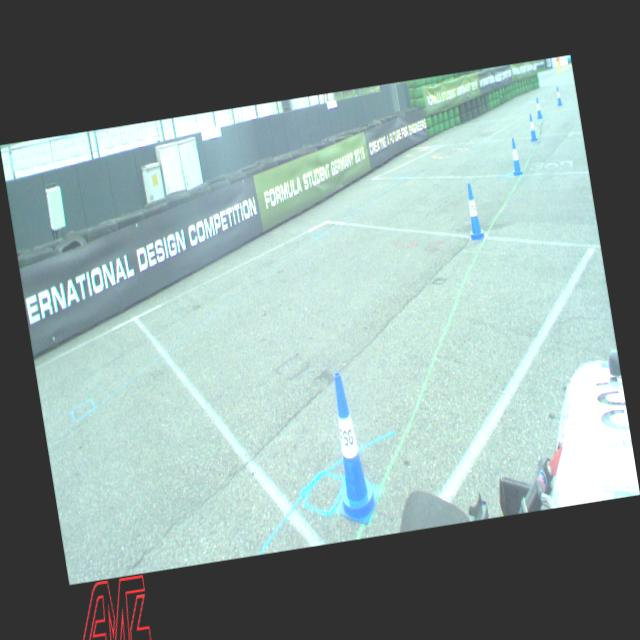blue_cone: (318, 368, 382, 528), (462, 182, 486, 241), (508, 137, 523, 177), (527, 113, 538, 142), (534, 98, 543, 119), (556, 86, 562, 105)
yellow_cone: (556, 66, 560, 74), (568, 61, 572, 68), (558, 65, 561, 72), (560, 64, 563, 71), (562, 64, 564, 70), (566, 62, 568, 68)
